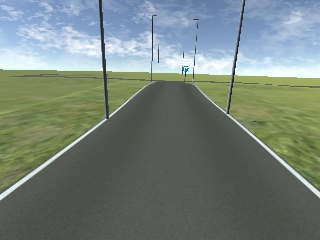right: (182, 66, 189, 72)
